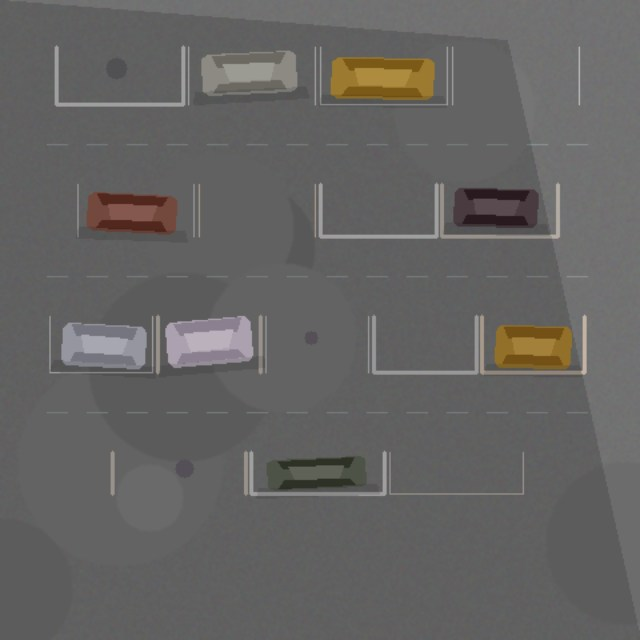space-empty: (56, 47, 183, 104), (452, 47, 579, 104), (199, 184, 315, 236), (320, 184, 436, 236), (265, 316, 368, 372), (373, 316, 476, 372), (389, 452, 523, 493), (112, 452, 245, 493)
space-occupied: (188, 47, 315, 104), (320, 47, 447, 104), (77, 184, 193, 236), (441, 184, 557, 236), (49, 316, 152, 372), (157, 316, 260, 372), (481, 316, 584, 372), (251, 452, 384, 493)
